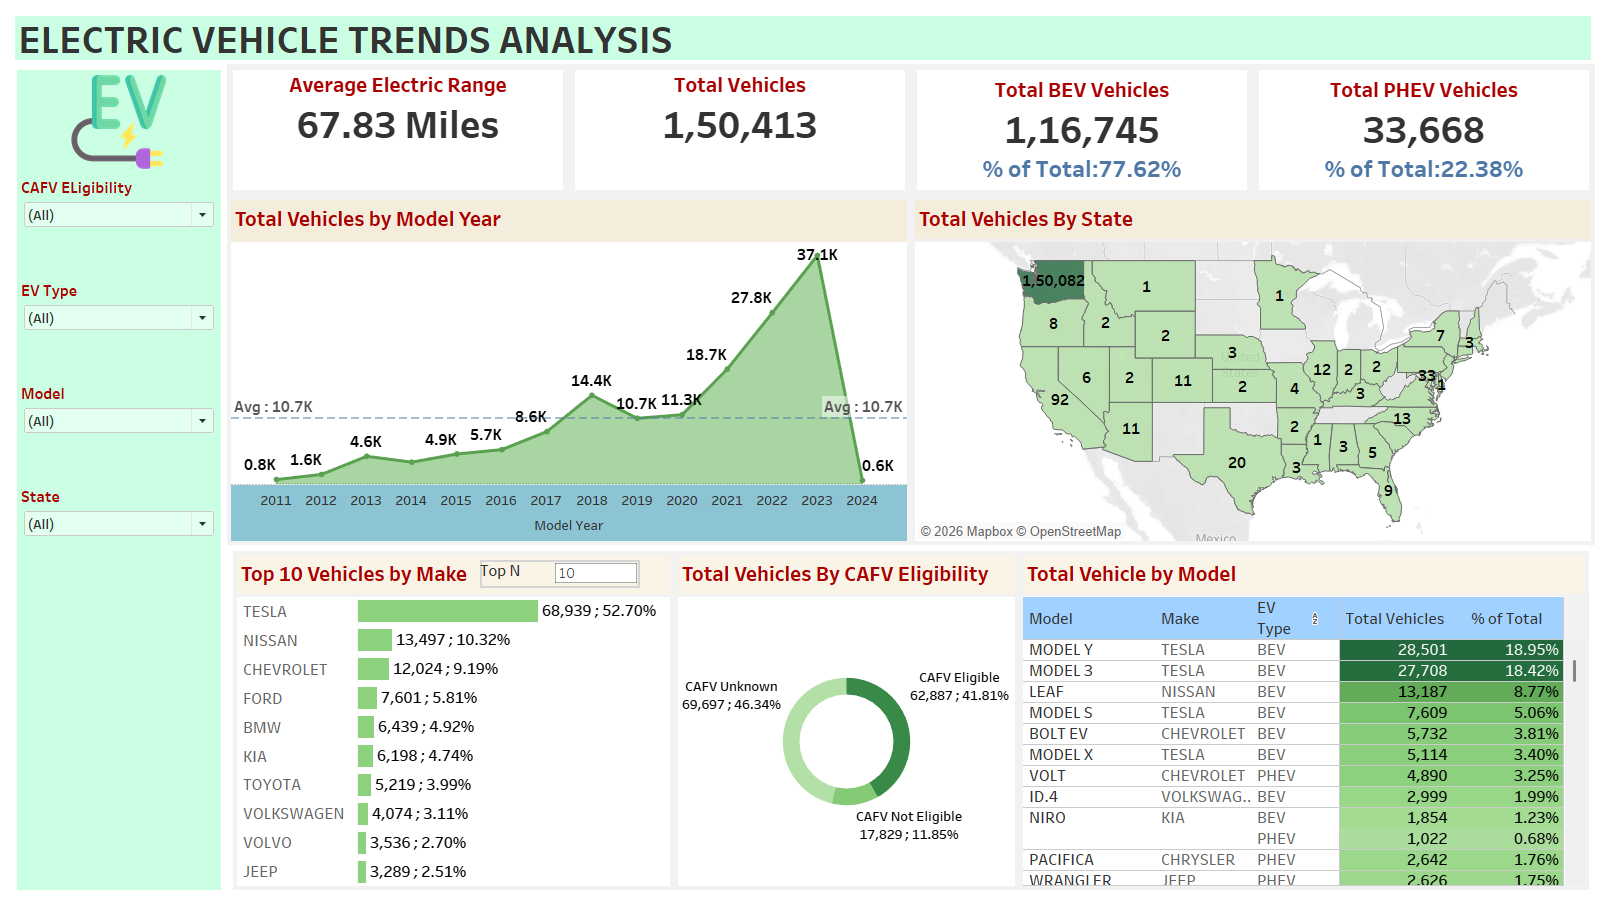

What the dashboard file says about the page in this screenshot:
{"tool":"tableau","page":{"name":"Dashboard 1","canvas":[1600,900],"ordinal":0},"visuals":[{"type":"title","box":[8,8,1584,52]},{"type":"worksheet","title":"Average Electric Range","mark":"Automatic","box":[224,60,342,132]},{"type":"worksheet","title":"Total Vehicles ","mark":"Automatic","box":[566,60,342,132]},{"type":"worksheet","title":"Total BEV Vehicles","mark":"Automatic","box":[908,60,342,132]},{"type":"worksheet","title":"Total PHEV Vehicles ","mark":"Automatic","box":[1250,60,342,132]},{"type":"image","param":"C:/Users/dhans/Downloads/ev.png","box":[14,66,204,103]},{"type":"filter","title":"Total Vehicles By State ","param":"[federated.0fx3b6m02lumd615rrlr01u902z1].[none:Clean Alternative Fuel Vehicle (C","box":[14,169,204,103]},{"type":"worksheet","title":"Total Vehicles by Model Year","mark":"Area","rows":["Calculation_666251273964769280","Calculation_666251273964769280"],"cols":["Model Year"],"box":[224,192,684,349]},{"type":"worksheet","title":"Total Vehicles By State ","mark":"Multipolygon","box":[908,192,684,349]},{"type":"filter","title":"Total Vehicles By State ","param":"[federated.0fx3b6m02lumd615rrlr01u902z1].[none:Electric Vehicle Type:nk]","box":[14,272,204,103]},{"type":"filter","title":"Total Vehicles By State ","param":"[federated.0fx3b6m02lumd615rrlr01u902z1].[none:Model:nk]","box":[14,375,204,103]},{"type":"filter","title":"Total Vehicles By State ","param":"[federated.0fx3b6m02lumd615rrlr01u902z1].[none:State:nk]","box":[14,478,204,102]},{"type":"worksheet","title":"Top 10 Vehicles by Make","mark":"Automatic","rows":["Make"],"cols":["Calculation_666251273964769280"],"box":[230,547,441,339]},{"type":"worksheet","title":"Total Vehicles By CAFV Eligibility","mark":"Pie","rows":["Calculation_666251274048778250","Calculation_666251274048778250"],"box":[671,547,345,339]},{"type":"worksheet","title":"Total Vehicle by Model","mark":"Square","rows":["Model","Make","Electric Vehicle Type"],"box":[1016,547,570,339]},{"type":"parameter","param":"[Parameters].[Parameter 1]","box":[477,556,160,28]},{"type":"blank","box":[14,580,204,102]},{"type":"blank","box":[14,682,204,102]},{"type":"blank","box":[14,784,204,102]}]}

Visuals, with their boxes in screenshot pixels (x1, y1, x2, y2), scaled from the page's 1600x900 canvas onto the 1606x899 screenshot:
title: x1=8, y1=8, x2=1598, y2=60
"Average Electric Range" worksheet: x1=225, y1=60, x2=568, y2=192
"Total Vehicles " worksheet: x1=568, y1=60, x2=911, y2=192
"Total BEV Vehicles" worksheet: x1=911, y1=60, x2=1255, y2=192
"Total PHEV Vehicles " worksheet: x1=1255, y1=60, x2=1598, y2=192
image: x1=14, y1=66, x2=219, y2=169
"Total Vehicles By State " filter: x1=14, y1=169, x2=219, y2=272
"Total Vehicles by Model Year" worksheet (Area marks): x1=225, y1=192, x2=911, y2=540
"Total Vehicles By State " worksheet (Multipolygon marks): x1=911, y1=192, x2=1598, y2=540
"Total Vehicles By State " filter: x1=14, y1=272, x2=219, y2=375
"Total Vehicles By State " filter: x1=14, y1=375, x2=219, y2=477
"Total Vehicles By State " filter: x1=14, y1=477, x2=219, y2=579
"Top 10 Vehicles by Make" worksheet: x1=231, y1=546, x2=674, y2=885
"Total Vehicles By CAFV Eligibility" worksheet (Pie marks): x1=674, y1=546, x2=1020, y2=885
"Total Vehicle by Model" worksheet (Square marks): x1=1020, y1=546, x2=1592, y2=885
parameter: x1=479, y1=555, x2=639, y2=583
blank: x1=14, y1=579, x2=219, y2=681
blank: x1=14, y1=681, x2=219, y2=783
blank: x1=14, y1=783, x2=219, y2=885
